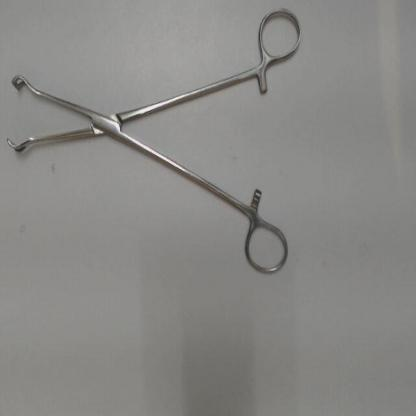8 Babcock Tissue Forceps: (4, 2, 306, 283)
